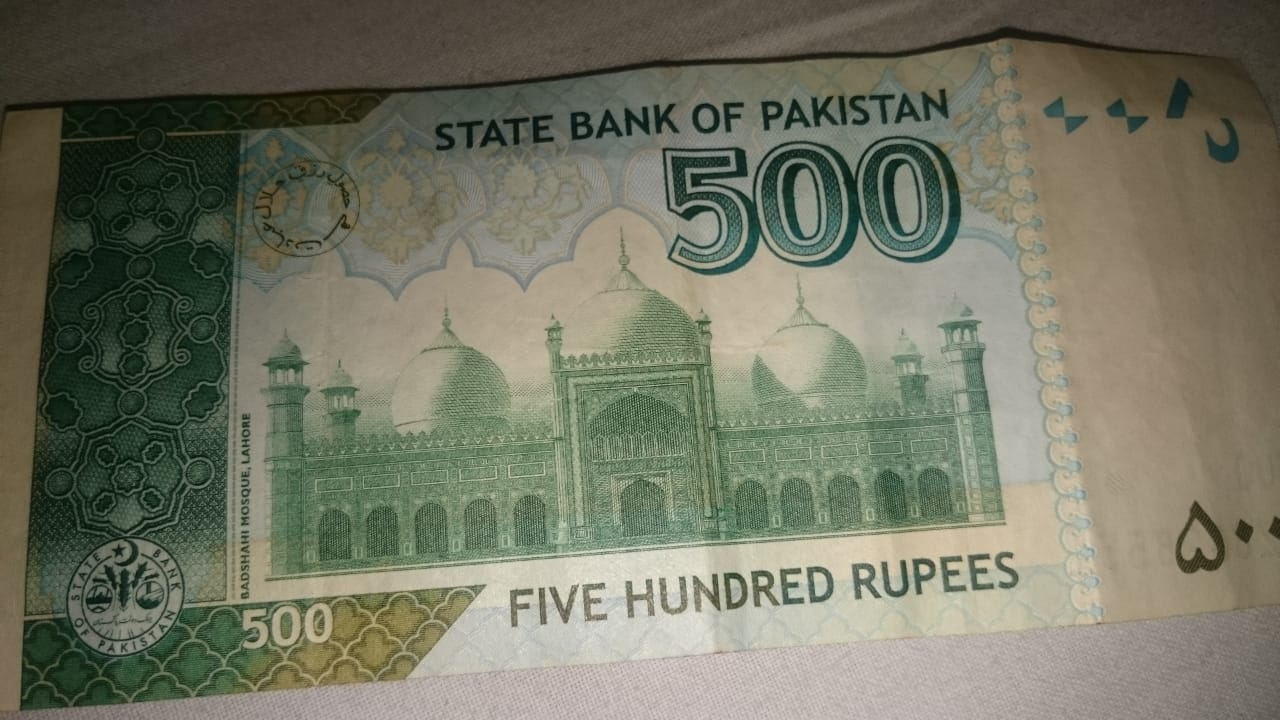500 rupee: (23, 67, 1271, 683)
